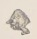microplastic: (5, 8, 31, 35)
